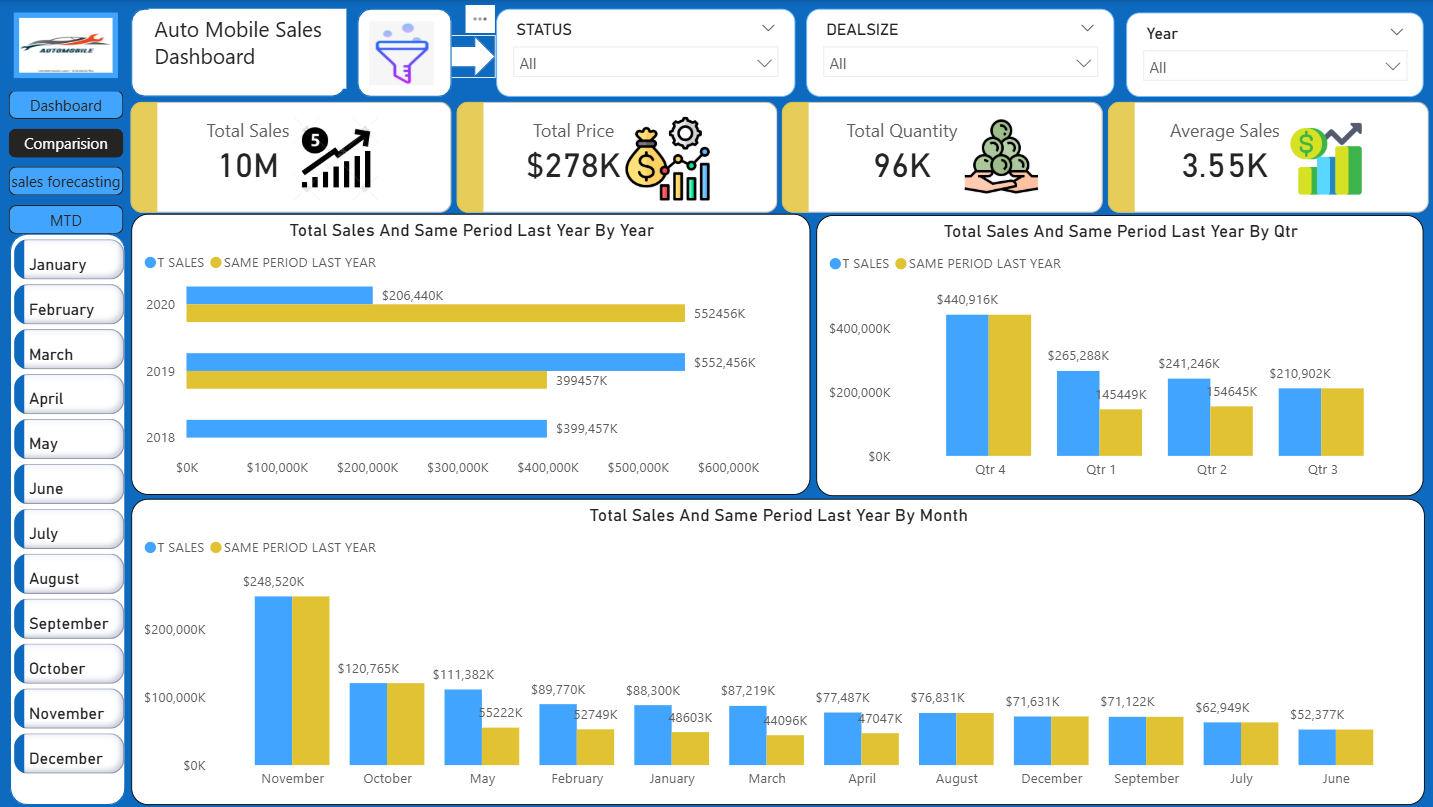

This screenshot's page, from the dashboard's own definition file:
{"tool":"powerbi","page":{"name":"Comparision","canvas":[1280,720],"ordinal":1},"visuals":[{"type":"shape","box":[0,0,116.4,81.2],"z":0,"group":"g4"},{"type":"cardVisual","fields":{"Data":["Sum(Auto mobile Sales data.SALES)","Sum(Auto mobile Sales data.PRICE)","Sum(Auto mobile Sales data.QUANTITY ORDERED)","Avg(Auto mobile Sales data.SALES)"]},"box":[111,85.3,1167.9,109],"z":0},{"type":"slicer","fields":{"Values":["Auto mobile Sales data.STATUS"]},"box":[441.9,8.2,266.2,78.2],"z":1000},{"type":"image","box":[12.7,11.2,92.8,58.6],"z":1000,"group":"g4"},{"type":"slicer","fields":{"Values":["Auto mobile Sales data.DEALSIZE"]},"box":[717.7,8.2,274.4,78.2],"z":2000},{"type":"shape","box":[9.5,208.4,102.8,508.9],"z":2000,"group":"g3"},{"type":"slicer","fields":{"Values":["Auto mobile Sales data.ORDER DATE.Variation.Date Hierarchy.Year"]},"box":[1003.1,11,264.8,75.5],"z":3000},{"type":"shape","box":[318,8.1,83.9,78.5],"z":4000,"group":"g2"},{"type":"shape","box":[391.1,31.6,50.8,38.4],"z":4000},{"type":"advancedSlicerVisual","fields":{"Values":["Auto mobile Sales data.ORDER DATE.Variation.Date Hierarchy.Month"]},"box":[8.1,208.4,108.3,497.7],"z":4000,"group":"g3"},{"type":"pageNavigator","box":[8.1,79.8,102.9,128.6],"z":5000},{"type":"group","id":"g1","title":"Group 1","box":[116.6,8.2,190.7,78.2],"z":6000},{"type":"image","box":[323.4,14.9,67.7,66.3],"z":6000,"group":"g2"},{"type":"group","id":"g2","title":"Group 3","box":[318,8.1,83.9,78.5],"z":7000},{"type":"shape","box":[116.6,8.2,190.7,78.2],"z":8000,"group":"g1"},{"type":"clusteredBarChart","title":"Total Sales And Same Period Last Year By Year","fields":{"Category":["Auto mobile Sales data.ORDER DATE.Variation.Date Hierarchy.Year","Auto mobile Sales data.ORDER DATE.Variation.Date Hierarchy.Quarter"],"Y":["Auto mobile Sales data.T SALES","Auto mobile Sales data.SAME PERIOD LAST YEAR"]},"box":[116.4,190.8,605,250],"z":8000},{"type":"textbox","box":[131.7,8.2,175.6,71.4],"z":9000,"group":"g1"},{"type":"group","id":"g3","title":"Group 2","box":[8.1,208.4,108.3,508.9],"z":9000},{"type":"clusteredColumnChart","title":"Total Sales And Same Period  Last Year  By Month","fields":{"Y":["Auto mobile Sales data.T SALES","Auto mobile Sales data.SAME PERIOD LAST YEAR"],"Category":["Auto mobile Sales data.ORDER DATE.Variation.Date Hierarchy.Month"]},"box":[116.4,443.9,1151.7,273],"z":10000},{"type":"clusteredColumnChart","title":"Total Sales And Same Period Last Year By Qtr","fields":{"Category":["Auto mobile Sales data.ORDER DATE.Variation.Date Hierarchy.Quarter"],"Y":["Auto mobile Sales data.T SALES","Auto mobile Sales data.SAME PERIOD LAST YEAR"]},"box":[726.4,191.4,541.1,250.3],"z":11000},{"type":"group","id":"g4","title":"Group 4","box":[0,0,116.4,81.2],"z":12000}]}

Visuals, with their boxes in screenshot pixels (x1, y1, x2, y2), scaled from the page's 1280x720 canvas onto the 1433x807 screenshot:
shape: [x1=0, y1=0, x2=130, y2=91]
cardVisual - Sum(Auto mobile Sales data.SALES) x Sum(Auto mobile Sales data.PRICE): [x1=124, y1=96, x2=1432, y2=218]
slicer - Auto mobile Sales data.STATUS: [x1=495, y1=9, x2=793, y2=97]
image: [x1=14, y1=13, x2=118, y2=78]
slicer - Auto mobile Sales data.DEALSIZE: [x1=803, y1=9, x2=1111, y2=97]
shape: [x1=11, y1=234, x2=126, y2=804]
slicer - Auto mobile Sales data.ORDER DATE.Variation.Date Hierarchy.Year: [x1=1123, y1=12, x2=1419, y2=97]
shape: [x1=356, y1=9, x2=450, y2=97]
shape: [x1=438, y1=35, x2=495, y2=78]
advancedSlicerVisual - Auto mobile Sales data.ORDER DATE.Variation.Date Hierarchy.Month: [x1=9, y1=234, x2=130, y2=791]
pageNavigator: [x1=9, y1=89, x2=124, y2=234]
"Group 1" group: [x1=131, y1=9, x2=344, y2=97]
image: [x1=362, y1=17, x2=438, y2=91]
"Group 3" group: [x1=356, y1=9, x2=450, y2=97]
shape: [x1=131, y1=9, x2=344, y2=97]
"Total Sales And Same Period Last Year By Year" clusteredBarChart: [x1=130, y1=214, x2=808, y2=494]
textbox: [x1=147, y1=9, x2=344, y2=89]
"Group 2" group: [x1=9, y1=234, x2=130, y2=804]
"Total Sales And Same Period  Last Year  By Month" clusteredColumnChart: [x1=130, y1=498, x2=1420, y2=804]
"Total Sales And Same Period Last Year By Qtr" clusteredColumnChart: [x1=813, y1=215, x2=1419, y2=495]
"Group 4" group: [x1=0, y1=0, x2=130, y2=91]
